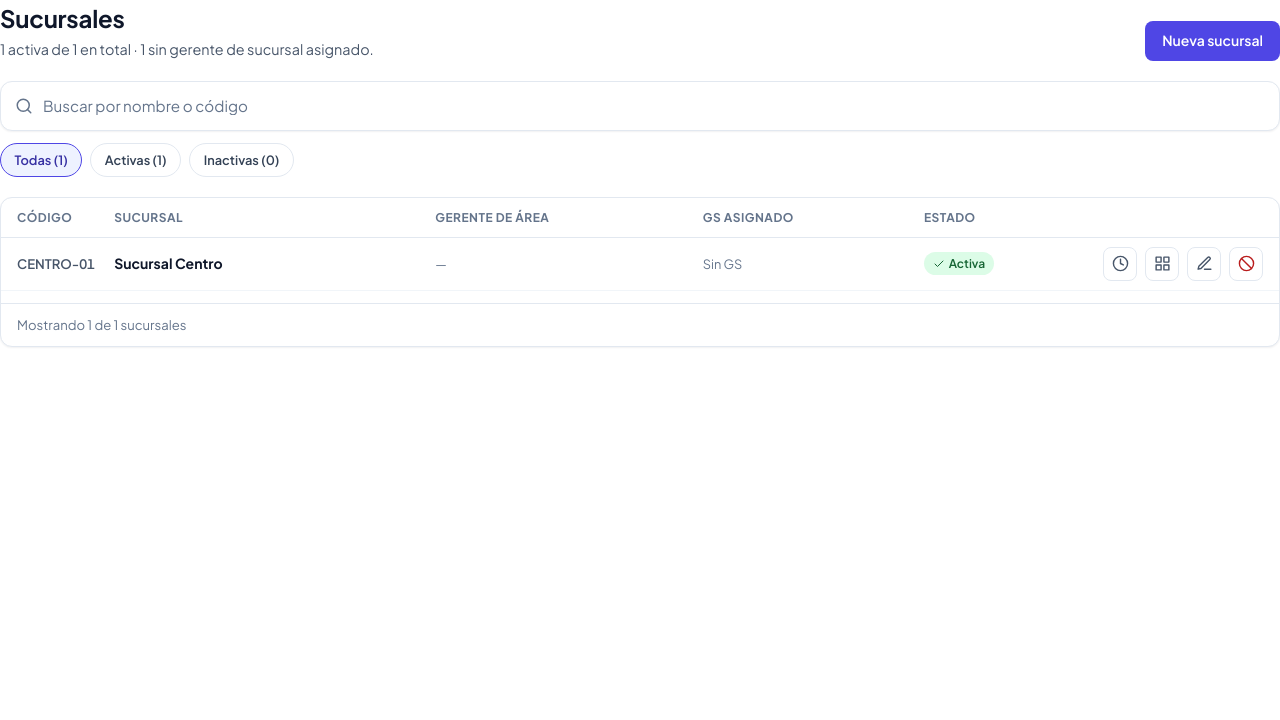
Test case: SucursalesPage: número de guardias › conserva el modal y la lista ante desactivación denegada
Expected: the text "Sucursal Centro" is shown, x1=114 y1=254 x2=223 y2=272
Click the button titled "Desactivar".
click(1246, 264)  # box x1=1229 y1=247 x2=1263 y2=281
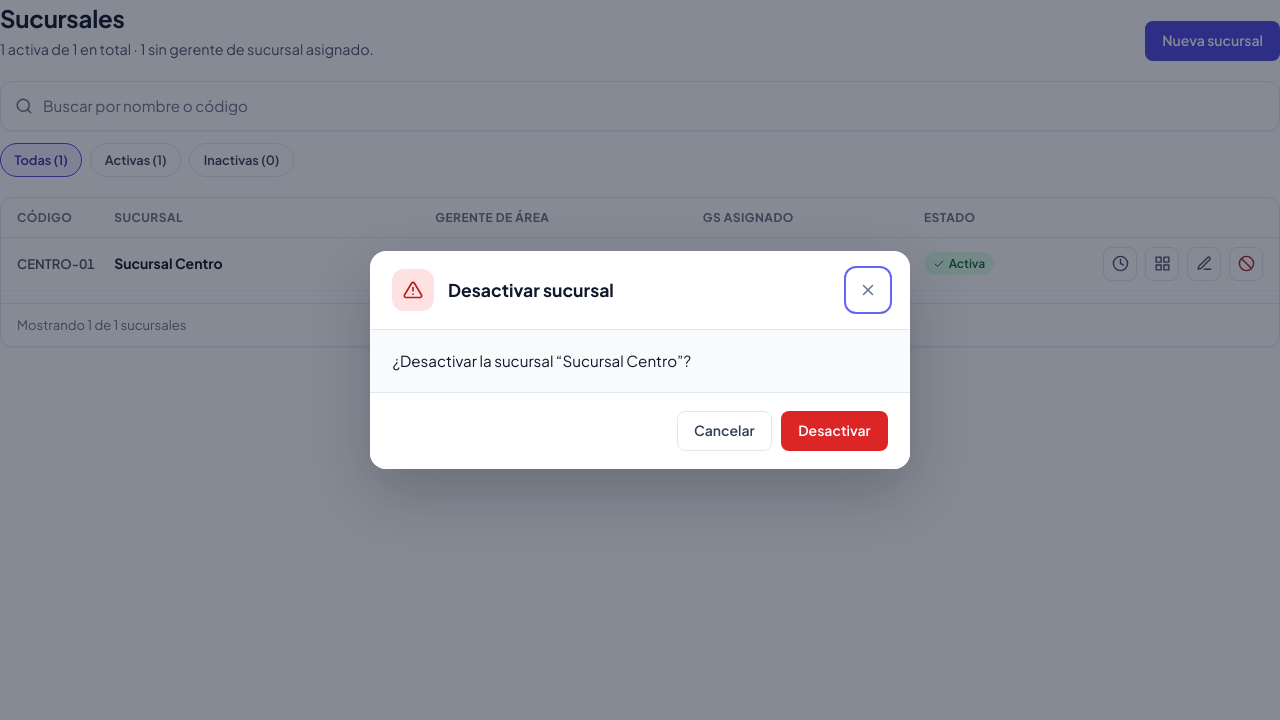
Click the button "Desactivar".
click(834, 431)  # box x1=781 y1=411 x2=888 y2=451
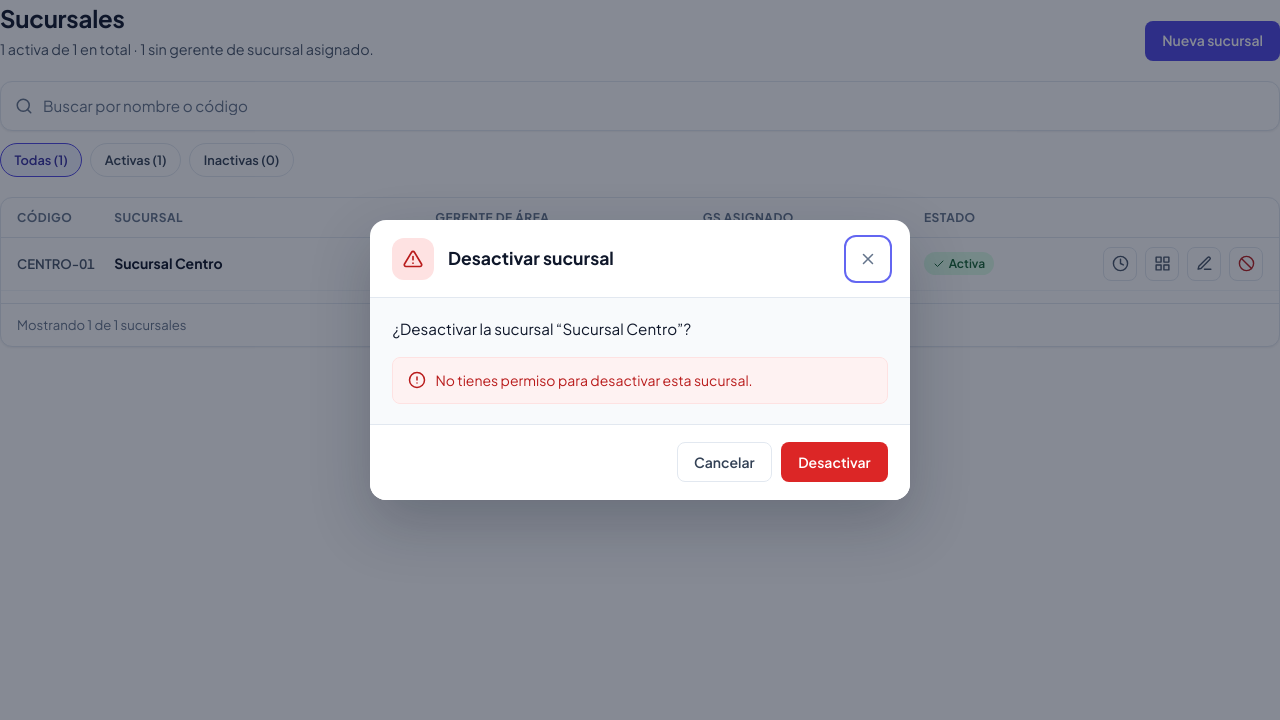
Expected: the cell "Sucursal Centro" is shown, x1=105 y1=238 x2=426 y2=290
Result: the text "No tienes permiso para desactivar esta sucursal." is shown at x1=435 y1=370 x2=753 y2=391
